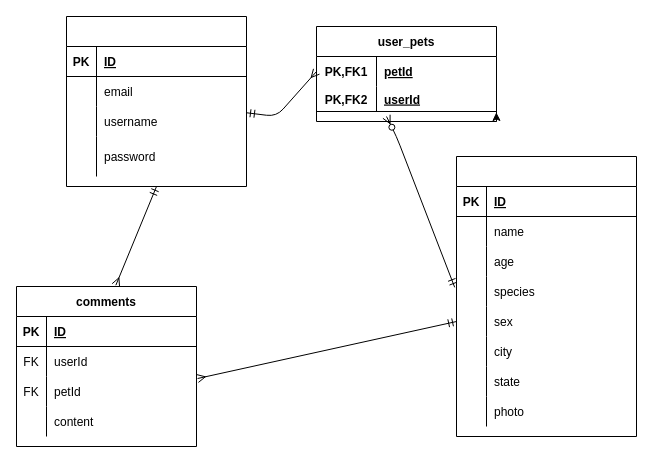
Image size: 653x463. Some labels were removed from this diagram. Here are the shapes that lost their labels. From the top down, the box of each, then its label:
(66, 16, 246, 186): users
(456, 156, 636, 436): pets
